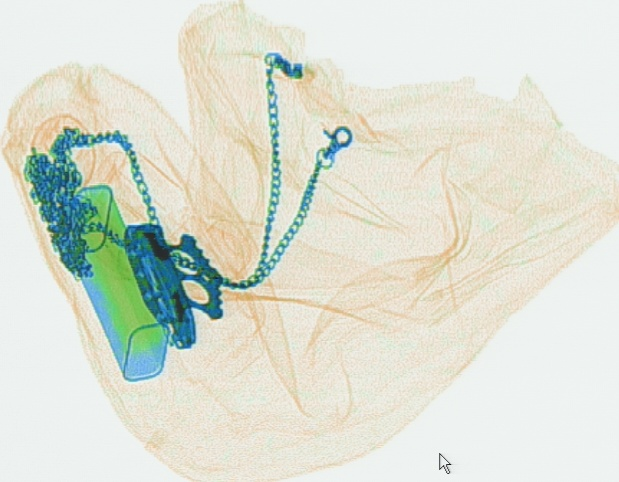knife: (121, 222, 196, 350)
zippooil: (63, 184, 169, 382)
